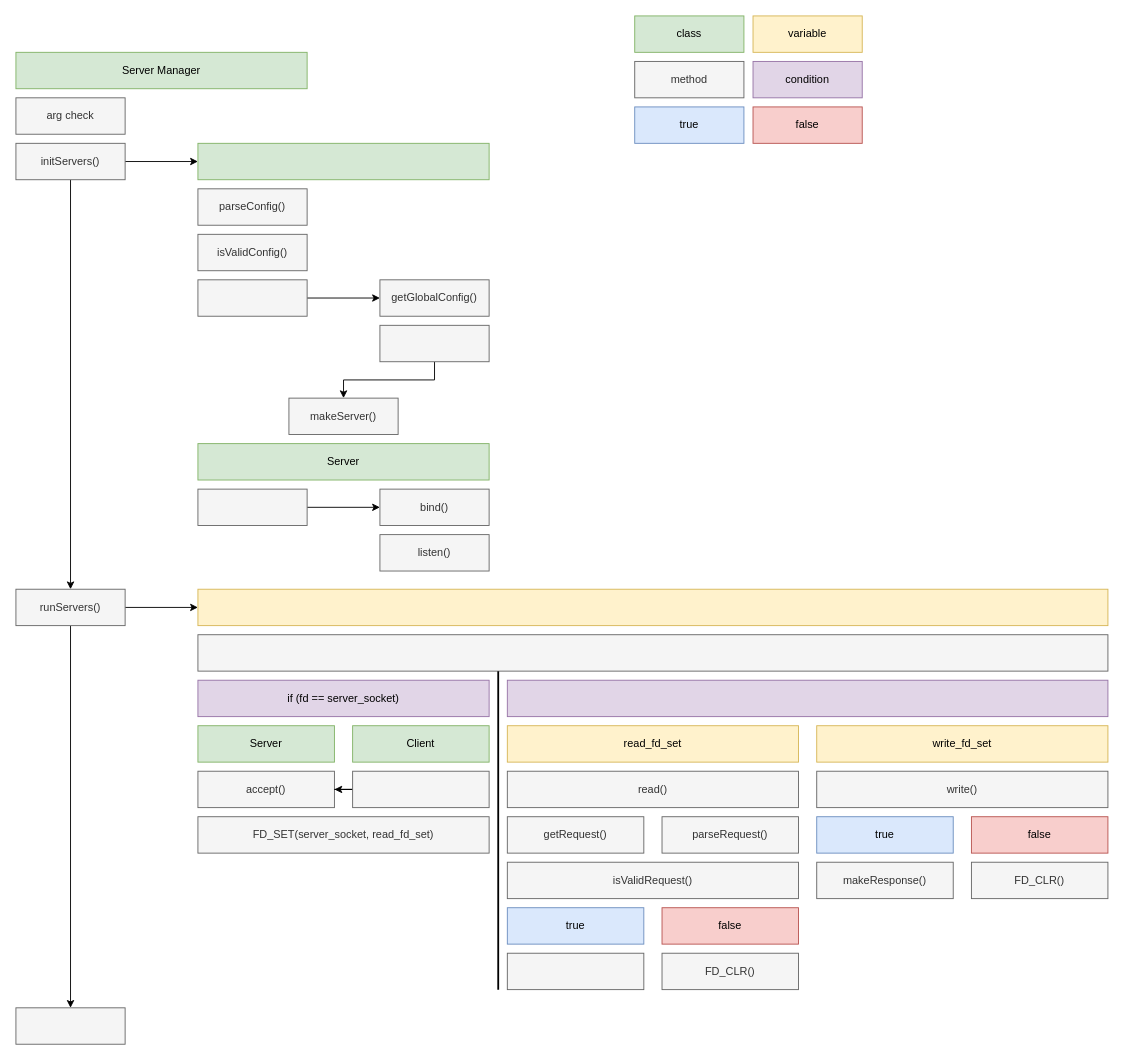
This 1124x1060 diagram has some shape labels left out. Here are the shapes that lost their labels. From the top down, the centre of each, then its label:
At (343,161): "ConfigManager".
At (252,297): "setConfigs()".
At (434,343): "makeConfig()".
At (252,507): "init()".
At (652,607): "fd_set".
At (652,652): "select()".
At (807,698): "else".
At (420,789): "connect()".
At (575,971): "FD_SET(fd, write_fd_set)".
At (70,1025): "exitServers()".
